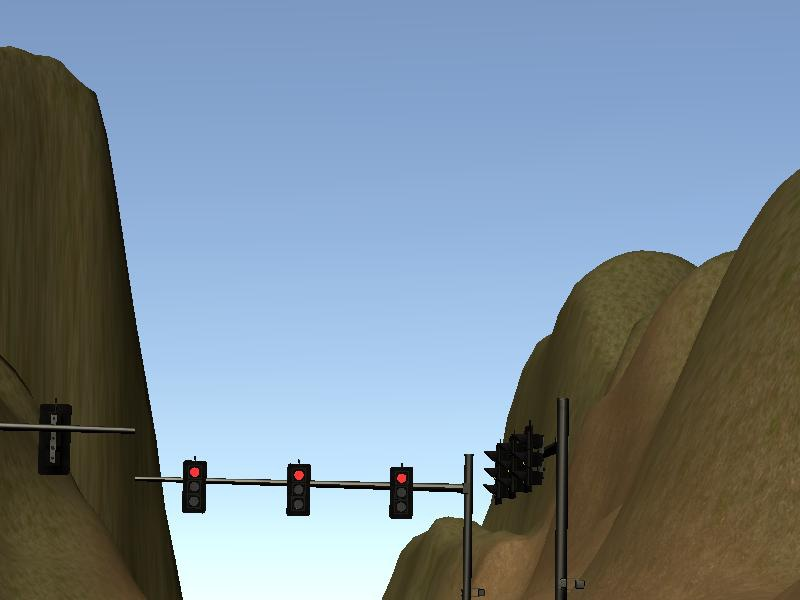Red: (179, 456, 209, 515), (282, 461, 312, 519), (388, 464, 416, 522)
